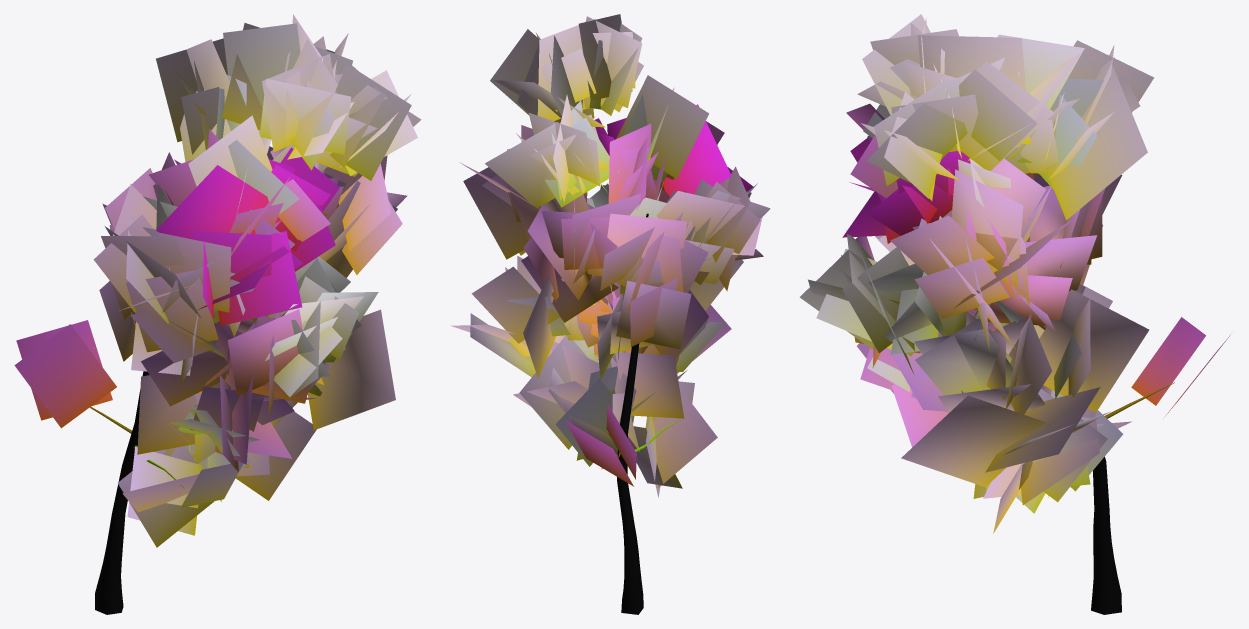
Rendered from tree_pine_c_lod1.glb.
3 renders of one model, left to right at view 1: azimuth 30°, elevation 25°; view 2: azimuth 150°, elevation 25°; view 3: azimuth 270°, elevation 25°, orthographic. The views are drawn at different scales.
Visible parts, largest first — view 1: tree_pine_c_lod1; view 2: tree_pine_c_lod1; view 3: tree_pine_c_lod1.
Boxes of the visible parts, left/top/right/bottom form: tree_pine_c_lod1: left=14, top=14, right=421, bottom=614; tree_pine_c_lod1: left=450, top=14, right=770, bottom=614; tree_pine_c_lod1: left=799, top=14, right=1230, bottom=614.
Bounding box in the file's own units: 7.11 × 12.23 × 7.41.
